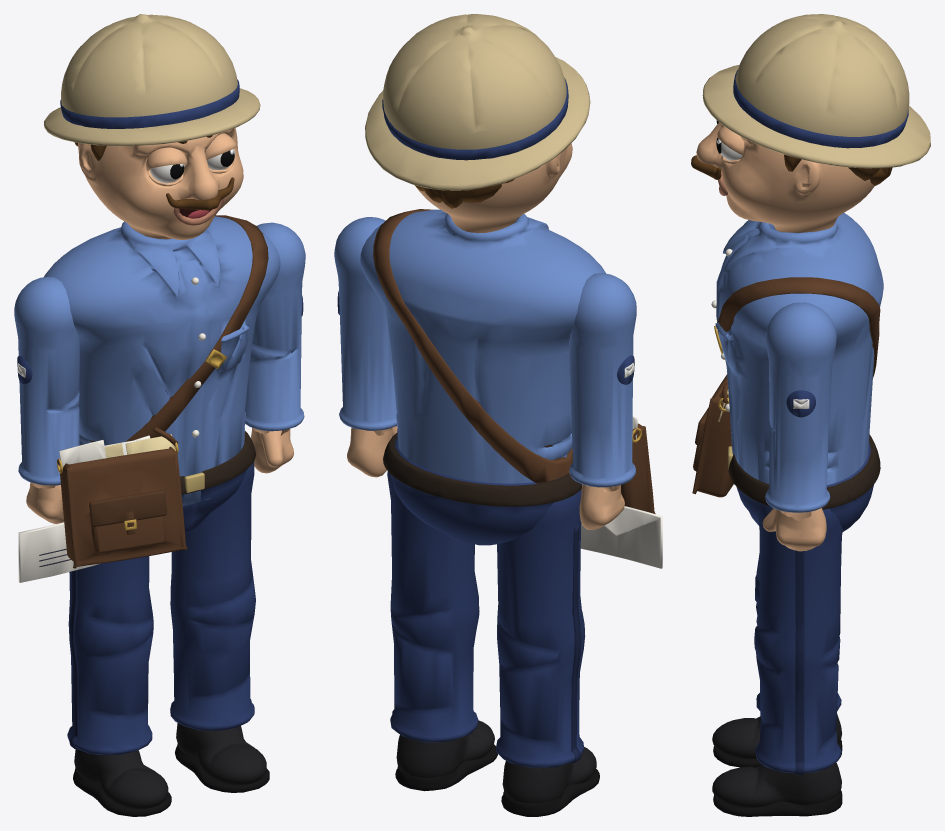
File: mailman.glb
3 renders of one model, left to right at view 1: azimuth 30°, elevation 25°; view 2: azimuth 150°, elevation 25°; view 3: azimuth 270°, elevation 25°, orthographic. The views are drawn at different scales.
Parts seen in each view (by area): view 1: Body_Mesh, Head_Mesh, LegL_Mesh, LegR_Mesh, ArmR_Mesh, ArmL_Mesh, Letter, Mouth; view 2: Body_Mesh, Head_Mesh, LegR_Mesh, LegL_Mesh, ArmR_Mesh, ArmL_Mesh, Letter; view 3: Head_Mesh, Body_Mesh, LegL_Mesh, ArmL_Mesh, LegR_Mesh.
Boxes of the visible parts, bbox=[...] form: Body_Mesh: bbox=[44, 215, 280, 568]; Head_Mesh: bbox=[44, 14, 260, 239]; LegL_Mesh: bbox=[170, 461, 269, 792]; LegR_Mesh: bbox=[67, 556, 171, 816]; ArmR_Mesh: bbox=[14, 277, 80, 523]; ArmL_Mesh: bbox=[245, 222, 305, 473]; Letter: bbox=[18, 522, 99, 582]; Mouth: bbox=[173, 198, 224, 225]; Body_Mesh: bbox=[360, 209, 655, 545]; Head_Mesh: bbox=[365, 14, 590, 233]; LegR_Mesh: bbox=[496, 489, 599, 816]; LegL_Mesh: bbox=[387, 471, 497, 791]; ArmR_Mesh: bbox=[569, 273, 636, 529]; ArmL_Mesh: bbox=[334, 217, 397, 477]; Letter: bbox=[580, 506, 662, 568]; Head_Mesh: bbox=[691, 14, 930, 232]; Body_Mesh: bbox=[692, 213, 883, 531]; LegL_Mesh: bbox=[712, 504, 842, 816]; ArmL_Mesh: bbox=[762, 302, 836, 551]; LegR_Mesh: bbox=[712, 533, 842, 767].
Bounding box in the file's own units: 0.8649 × 2.08 × 0.5959.
